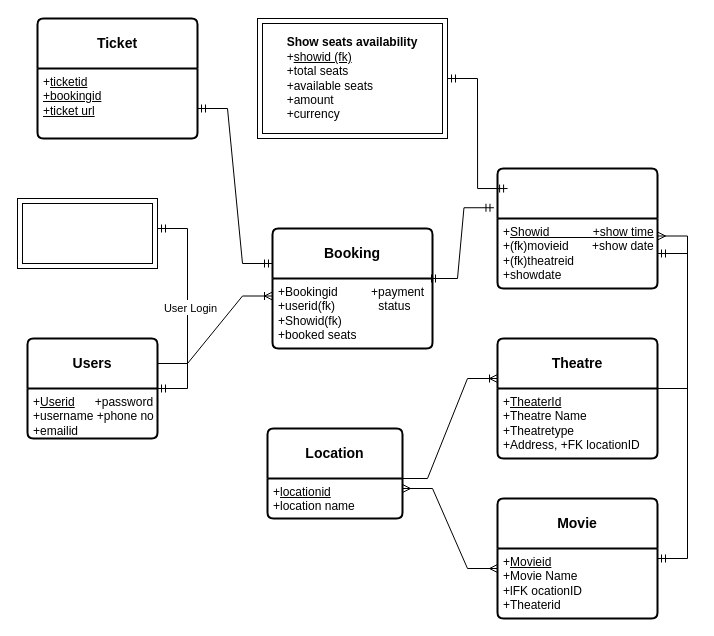
Image size: 714x636. Some labels were removed from this diagram. Each missing label, with the box of its shape:
Login Session +Userid +Access token +refreshtime: (16, 198, 158, 268)
Show Details: (496, 167, 658, 289)
